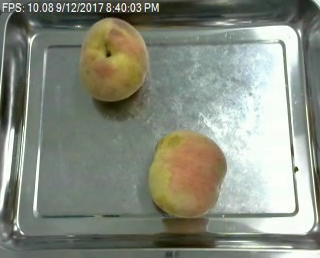Peach: (147, 129, 226, 218), (79, 18, 149, 102)
